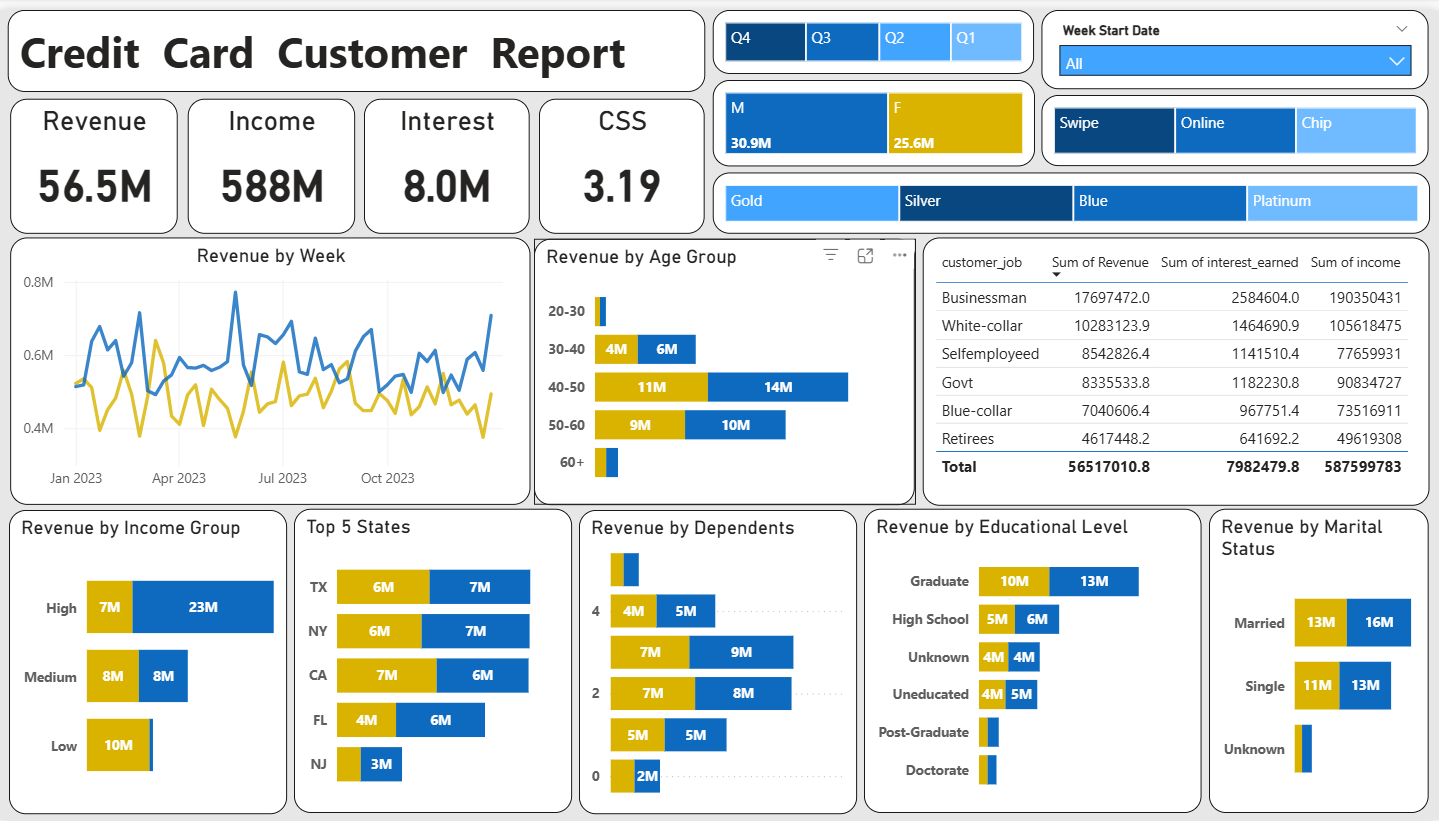

The dashboard page shown, as its layout file describes it:
{"tool":"powerbi","page":{"name":"CC Customer","canvas":[1280,720],"ordinal":2},"visuals":[{"type":"textbox","box":[7.5,0,620,72.5],"z":0},{"type":"tableEx","fields":{"Values":["public cust_detail.customer_job","Sum(public cc_detail.Revenue)","Sum(public cc_detail.interest_earned)","Sum(public cust_detail.income)"]},"box":[821,202,450,238],"z":1000},{"type":"card","title":"Revenue","fields":{"Values":["Sum(public cc_detail.Revenue)"]},"box":[9.5,78.4,148.6,120.3],"z":2000},{"type":"card","title":"Income","fields":{"Values":["Sum(public cust_detail.income)"]},"box":[167.6,78.4,148.6,120.3],"z":3000},{"type":"card","title":"Interest","fields":{"Values":["Sum(public cc_detail.interest_earned)"]},"box":[324.3,78.4,147.3,120.3],"z":4000},{"type":"card","title":"CSS","fields":{"Values":["Avg(public cust_detail.cust_satisfaction_score)"]},"box":[479.7,78.4,147.3,120.3],"z":5000},{"type":"slicer","fields":{"Values":["public cc_detail.week_start_date"]},"box":[926.9,0,344.4,70],"z":6000},{"type":"treemap","fields":{"Group":["public cc_detail.qtr"],"Values":["Avg(public cust_detail.client_num)"]},"box":[634.3,0,285.7,56.4],"z":7000},{"type":"treemap","fields":{"Group":["public cust_detail.gender"],"Values":["Sum(public cc_detail.Revenue)"]},"box":[634.3,62.1,286.4,76.4],"z":8000},{"type":"treemap","fields":{"Group":["public cc_detail.card_category"],"Values":["Avg(public cust_detail.client_num)"]},"box":[634.4,144.4,637.8,54.4],"z":9000},{"type":"lineChart","title":"Revenue by Week","fields":{"Series":["public cust_detail.gender"],"Category":["public cc_detail.week_start_date.Variation.Date Hierarchy.Year","public cc_detail.week_start_date.Variation.Date Hierarchy.Month","public cc_detail.week_start_date.Variation.Date Hierarchy.Day"],"Y":["Sum(public cc_detail.Revenue)"]},"box":[10,202.2,462.2,237.8],"z":10000},{"type":"barChart","title":"Revenue by Income Group","fields":{"Y":["Sum(public cc_detail.Revenue)"],"Category":["public cust_detail.Income Group"],"Series":["public cust_detail.gender"]},"box":[9,444,247,270],"z":11000},{"type":"barChart","title":"Revenue by Age Group","fields":{"Y":["Sum(public cc_detail.Revenue)"],"Category":["public cust_detail.AgeGroup"],"Series":["public cust_detail.gender"]},"box":[476,203,338,237],"z":12000},{"type":"barChart","title":"Revenue by Educational Level","fields":{"Y":["Sum(public cc_detail.Revenue)"],"Category":["public cust_detail.education_level"],"Series":["public cust_detail.gender"]},"box":[768.8,443.8,300,270],"z":13000},{"type":"barChart","title":"Top 5 States","fields":{"Y":["Sum(public cc_detail.Revenue)"],"Category":["public cust_detail.state_cd"],"Series":["public cust_detail.gender"]},"box":[262.5,443.8,247,270],"z":14000},{"type":"treemap","fields":{"Group":["public cc_detail.use_chip"],"Values":["Avg(public cust_detail.client_num)"]},"box":[927.1,75.7,344.3,62.9],"z":15000},{"type":"barChart","title":"Revenue by Dependents","fields":{"Y":["Sum(public cc_detail.Revenue)"],"Category":["public cust_detail.dependent_count"],"Series":["public cust_detail.gender"]},"box":[516,444,247,270],"z":16000},{"type":"barChart","title":"Revenue by Marital Status","fields":{"Y":["Sum(public cc_detail.Revenue)"],"Series":["public cust_detail.gender"],"Category":["public cust_detail.marital_status"]},"box":[1075.5,443.6,195.5,270],"z":17000}]}

Visuals, with their boxes in screenshot pixels (x1, y1, x2, y2), scaled from the page's 1280x720 canvas onto the 1439x821 screenshot:
textbox: BBox(8, 0, 705, 83)
tableEx - public cust_detail.customer_job x Sum(public cc_detail.Revenue): BBox(923, 230, 1429, 502)
"Revenue" card: BBox(11, 89, 178, 227)
"Income" card: BBox(188, 89, 355, 227)
"Interest" card: BBox(365, 89, 530, 227)
"CSS" card: BBox(539, 89, 705, 227)
slicer - public cc_detail.week_start_date: BBox(1042, 0, 1429, 80)
treemap - public cc_detail.qtr x Avg(public cust_detail.client_num): BBox(713, 0, 1034, 64)
treemap - public cust_detail.gender x Sum(public cc_detail.Revenue): BBox(713, 71, 1035, 158)
treemap - public cc_detail.card_category x Avg(public cust_detail.client_num): BBox(713, 165, 1430, 227)
"Revenue by Week" lineChart: BBox(11, 231, 531, 502)
"Revenue by Income Group" barChart: BBox(10, 506, 288, 814)
"Revenue by Age Group" barChart: BBox(535, 231, 915, 502)
"Revenue by Educational Level" barChart: BBox(864, 506, 1202, 814)
"Top 5 States" barChart: BBox(295, 506, 573, 814)
treemap - public cc_detail.use_chip x Avg(public cust_detail.client_num): BBox(1042, 86, 1429, 158)
"Revenue by Dependents" barChart: BBox(580, 506, 858, 814)
"Revenue by Marital Status" barChart: BBox(1209, 506, 1429, 814)
